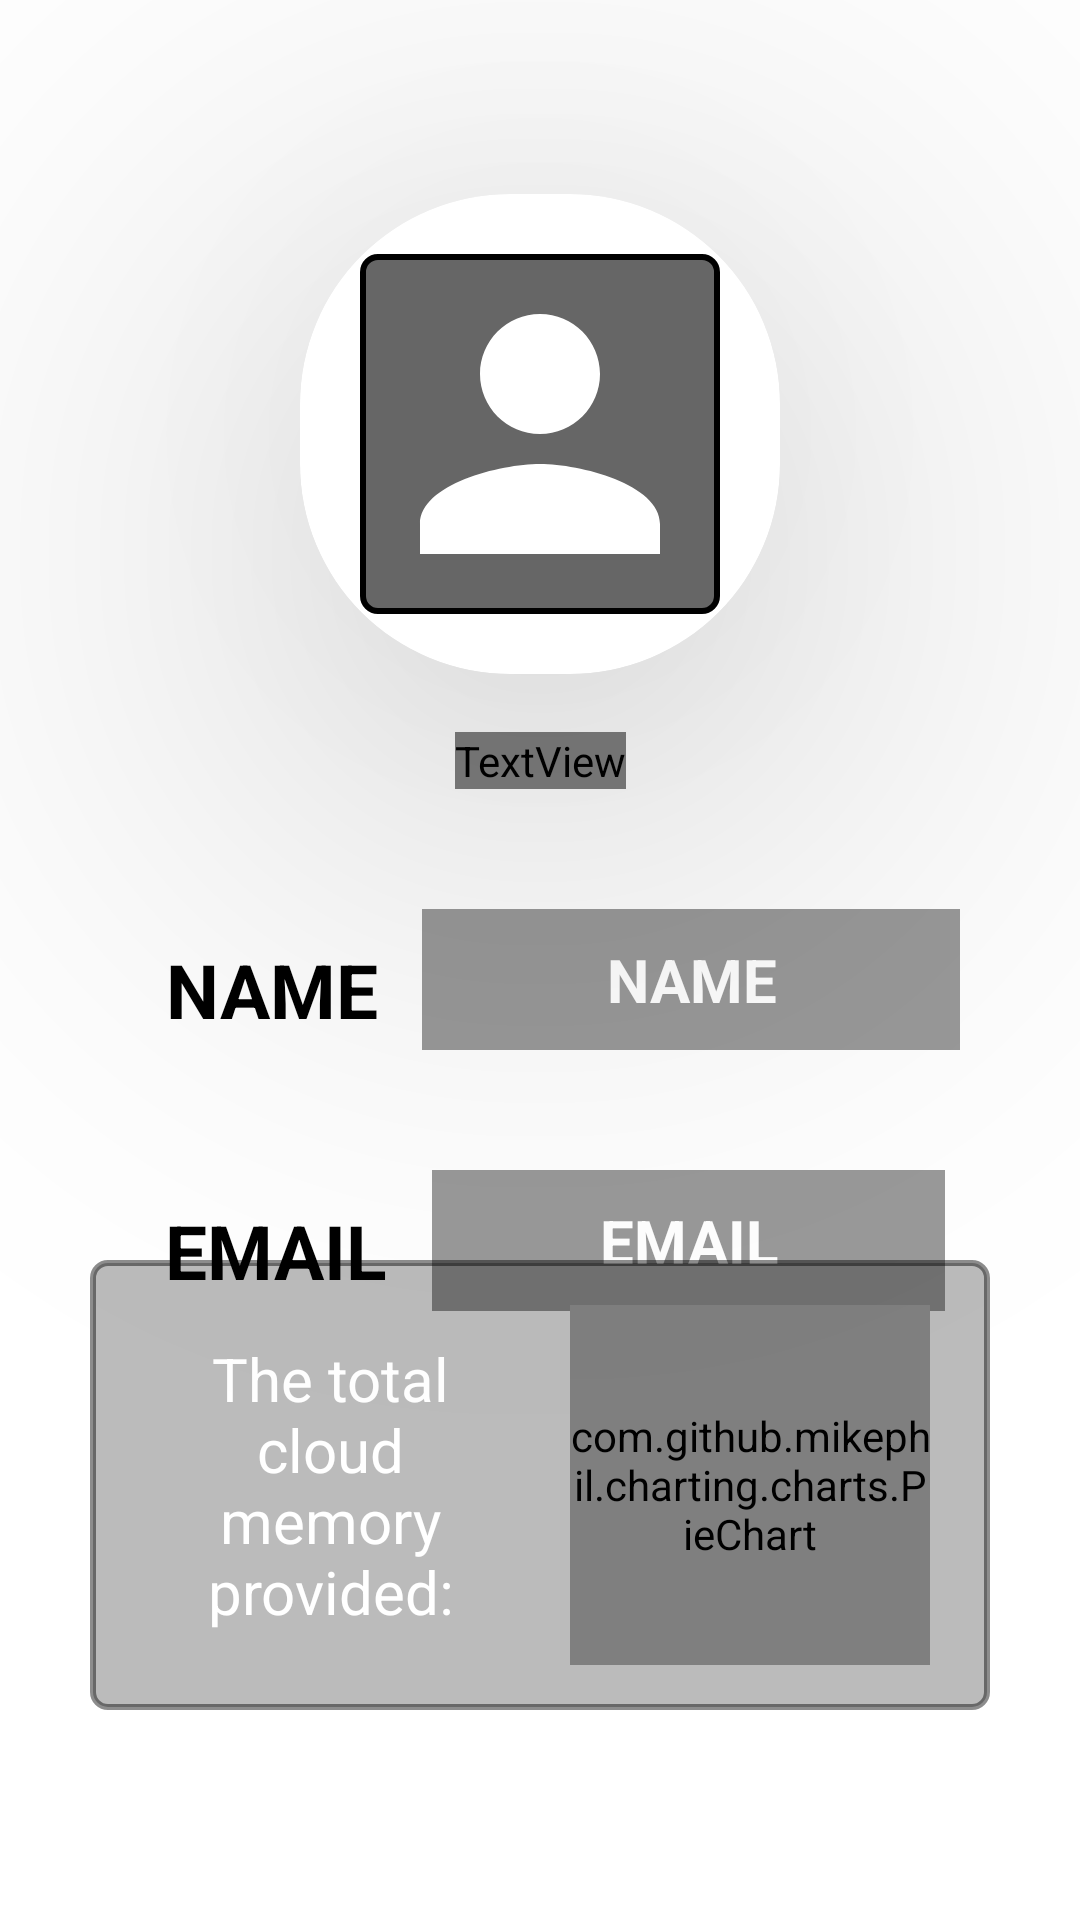

Icons on this 1080px x 1920px Android screen, each with the point to tap as [x,y]:
person: [540,434]
